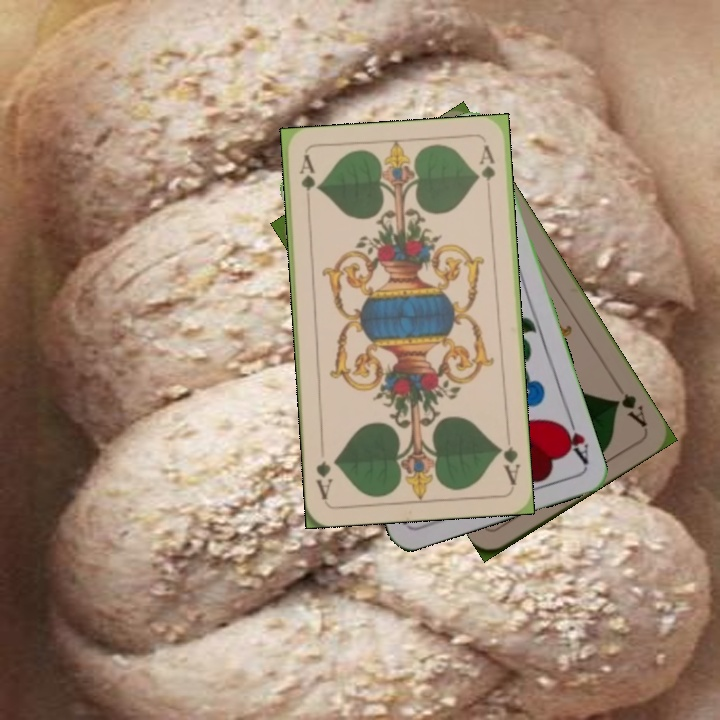GA: (494, 429, 523, 488), (609, 389, 650, 430), (295, 152, 318, 211)
HA: (555, 410, 592, 467)
